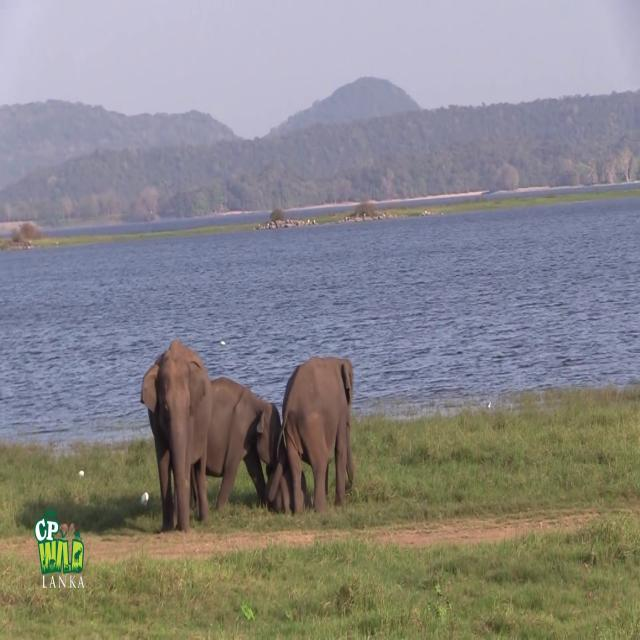Elephant: (140, 338, 212, 534), (274, 355, 355, 514), (191, 375, 282, 514)
